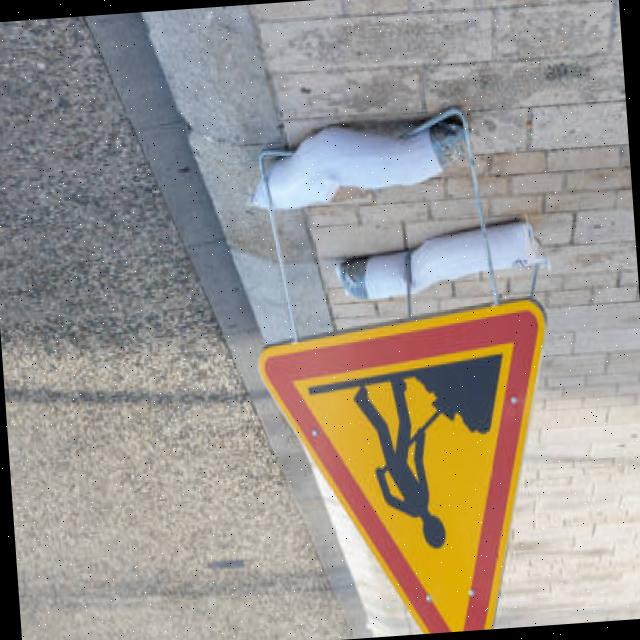road_work: (251, 297, 582, 640)
